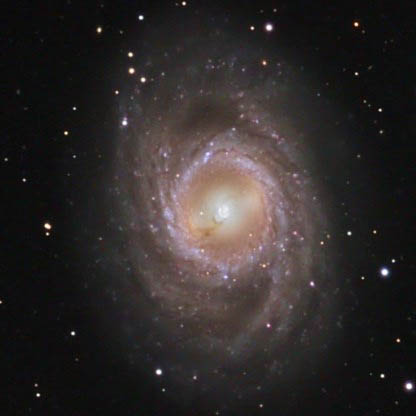Messier 95: (59, 41, 352, 379)
